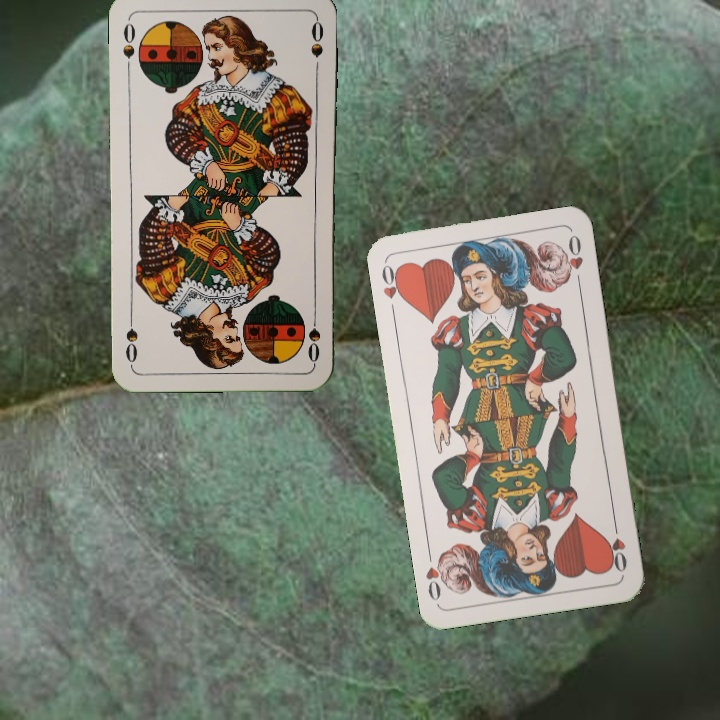HO: (377, 258, 407, 317), (604, 517, 630, 575)
SO: (304, 306, 324, 365), (119, 19, 138, 76)
